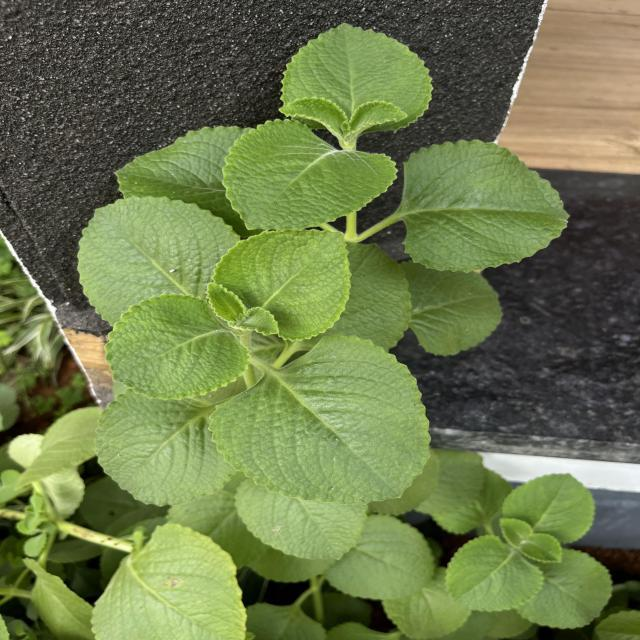Plectranthus barbatus: (206, 332, 433, 506), (404, 136, 572, 278), (220, 116, 400, 235), (75, 194, 242, 316), (86, 520, 254, 640), (280, 20, 436, 138), (94, 388, 235, 508), (102, 291, 252, 402), (214, 226, 354, 342), (234, 476, 368, 562), (399, 258, 506, 358), (323, 514, 437, 602), (444, 533, 546, 613), (518, 548, 614, 630), (502, 472, 595, 544), (519, 532, 565, 564)
